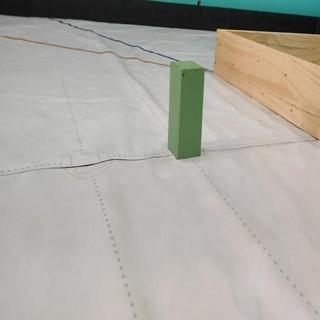greenbox: (167, 59, 205, 161)
